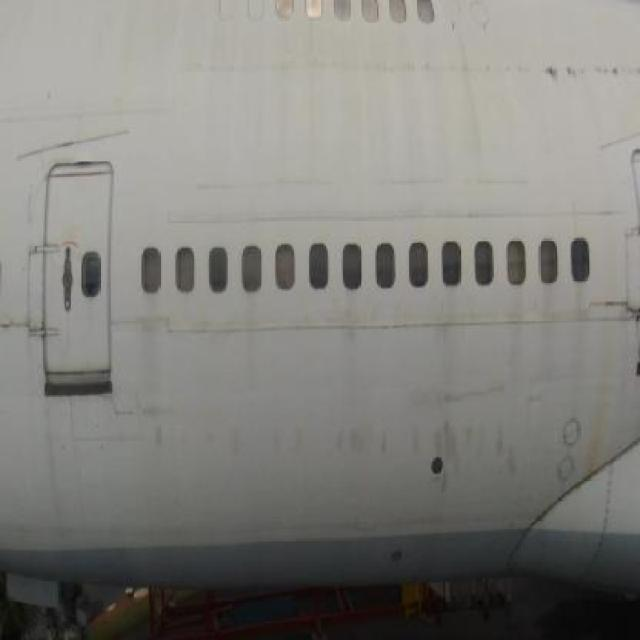Missing-Rivet: (25, 240, 46, 342)
Rust: (589, 340, 617, 474)
Scartch: (534, 44, 638, 91), (15, 129, 136, 157), (586, 293, 640, 324), (0, 309, 25, 334)
